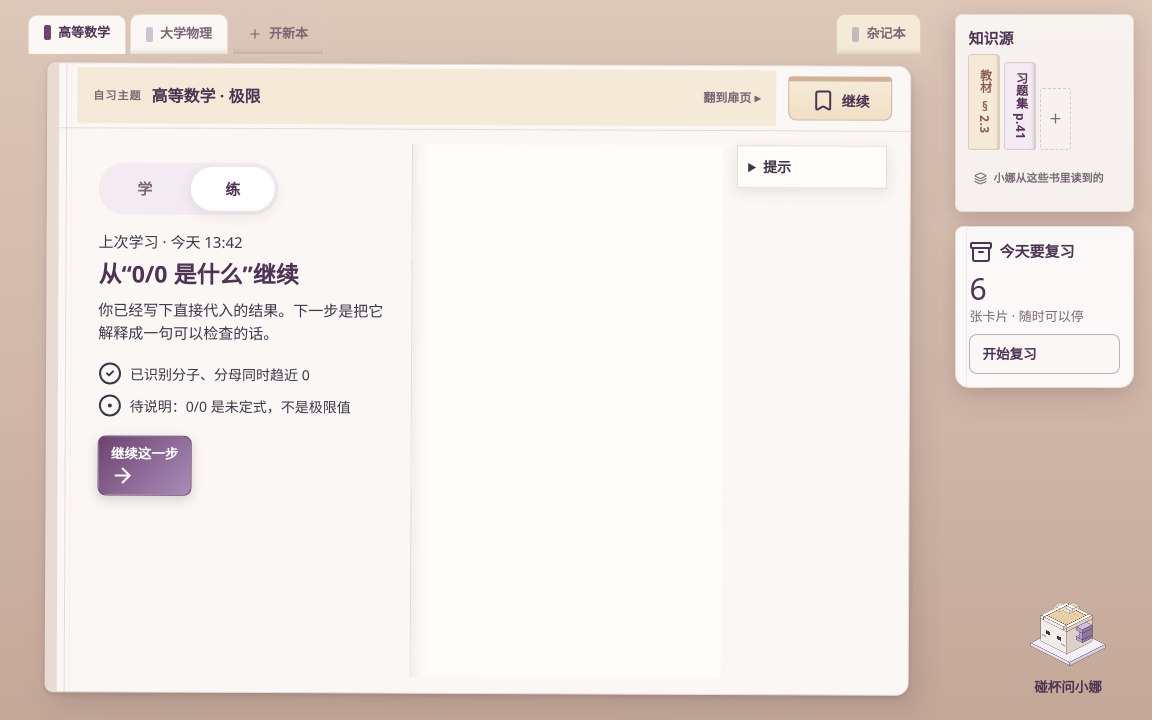
Test: DeskScene FE-01 preview › keeps density and activity independent through resume, writing, and feedback
The image size is (1152, 720).
Expected: the button with aria-label "继续：解释为什么不能直接代入" reads "继续", [788,76,892,121]
Expected: the button with aria-label "继续：解释为什么不能直接代入" does not show "解释为什么不能直接代入", [788,76,892,121]
Click the button "继续这一步": (144, 466) [97,435,191,496]
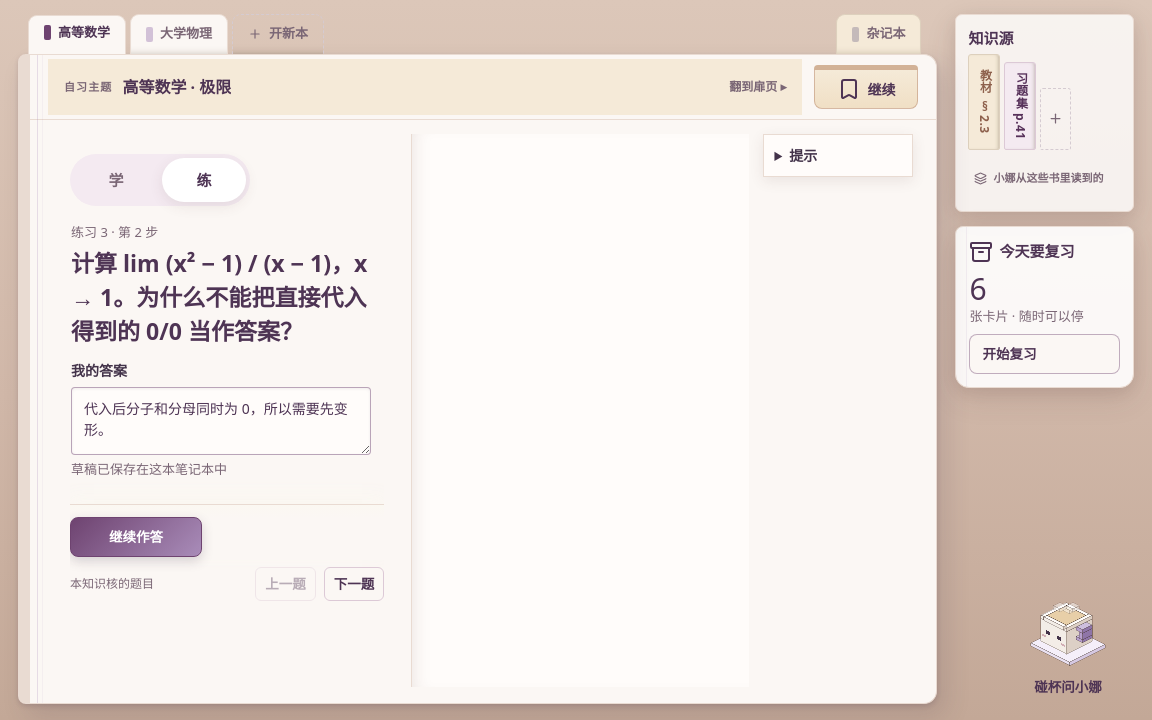
Now the heading "计算 lim (x² − 1) / (x − 1)，x → 1。为什么不能把直接代入得到的 0/0 当作答案？" is shown, box [71,246,371,348]
Click the button "继续作答": (136, 537) [70,517,202,557]
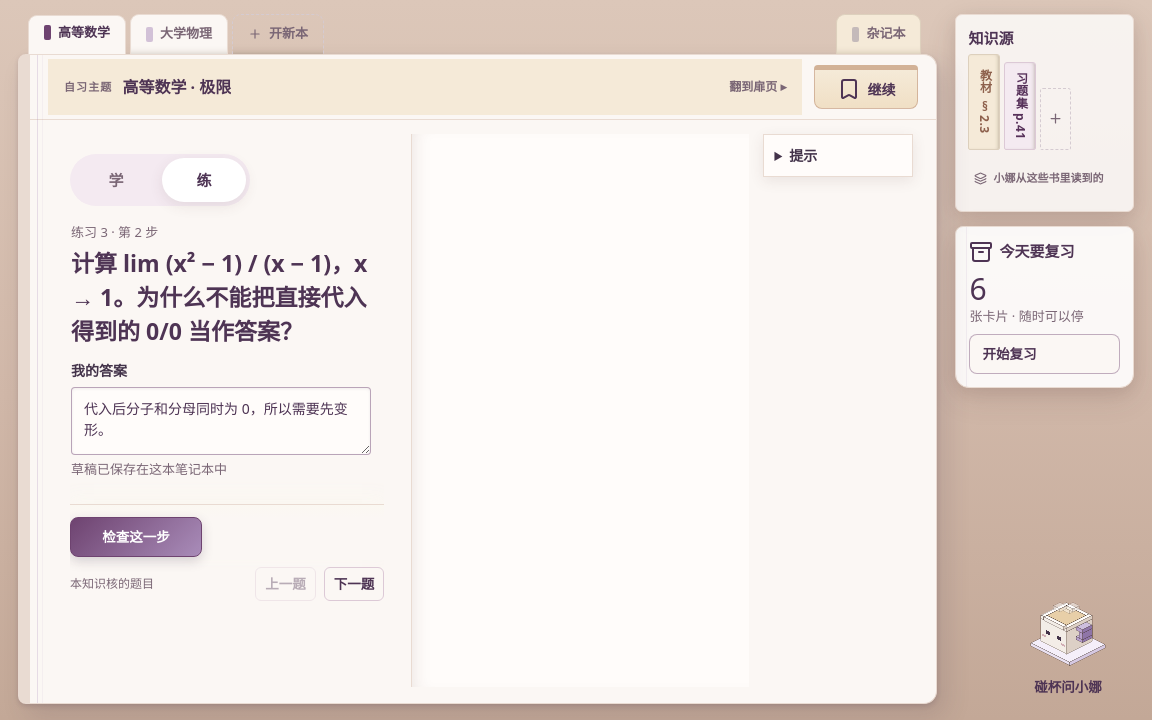
Replace the text in the text box named "我的答案" with "代入得到 0/0。": (221, 421) [71,387,371,455]
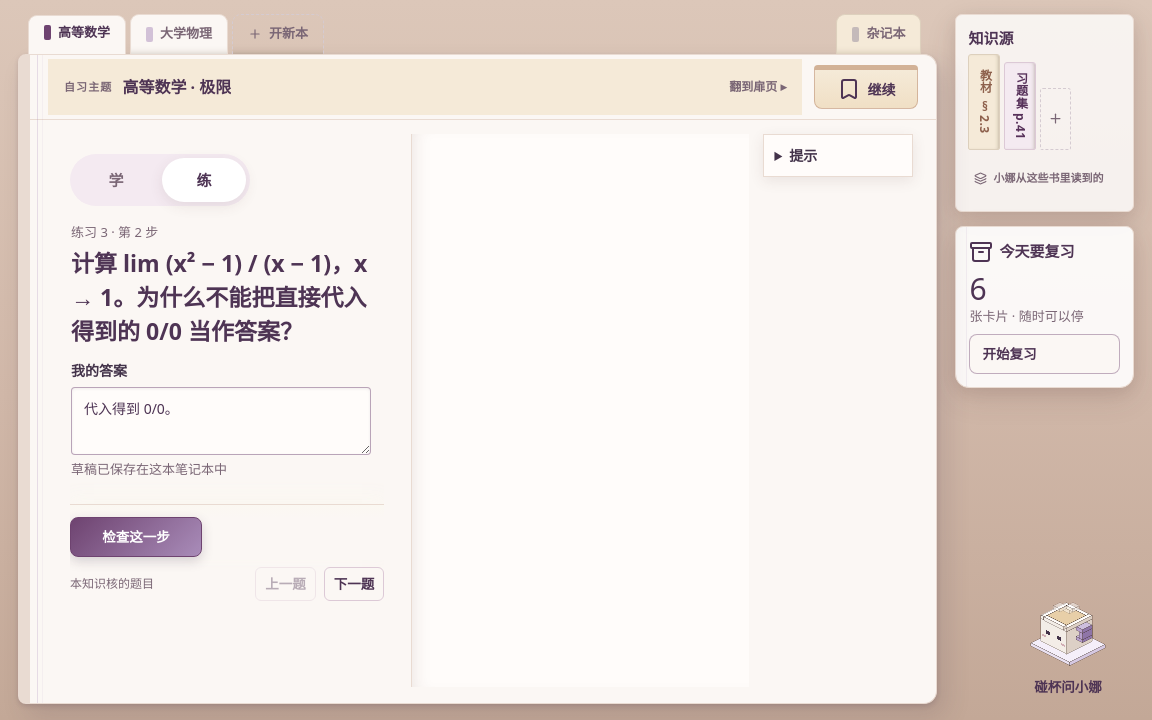
Click the button "检查这一步": (136, 537) [70,517,202,557]
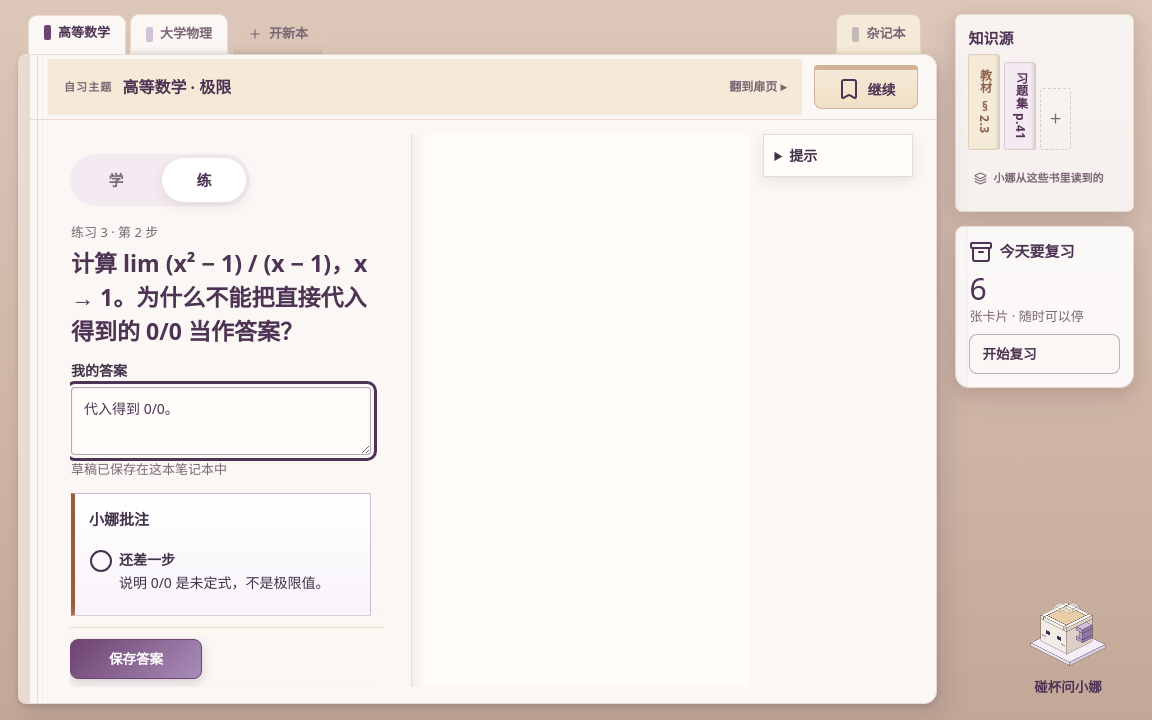
Now the element named "小娜批注：还差一步" is shown, box [71,493,371,616]
Now the button "保存答案" is shown, box [70,639,202,679]
Replace the text in the text box named "我的答案" with "0/0 是未定式，所以还要继续分析。": (221, 421) [71,387,371,455]
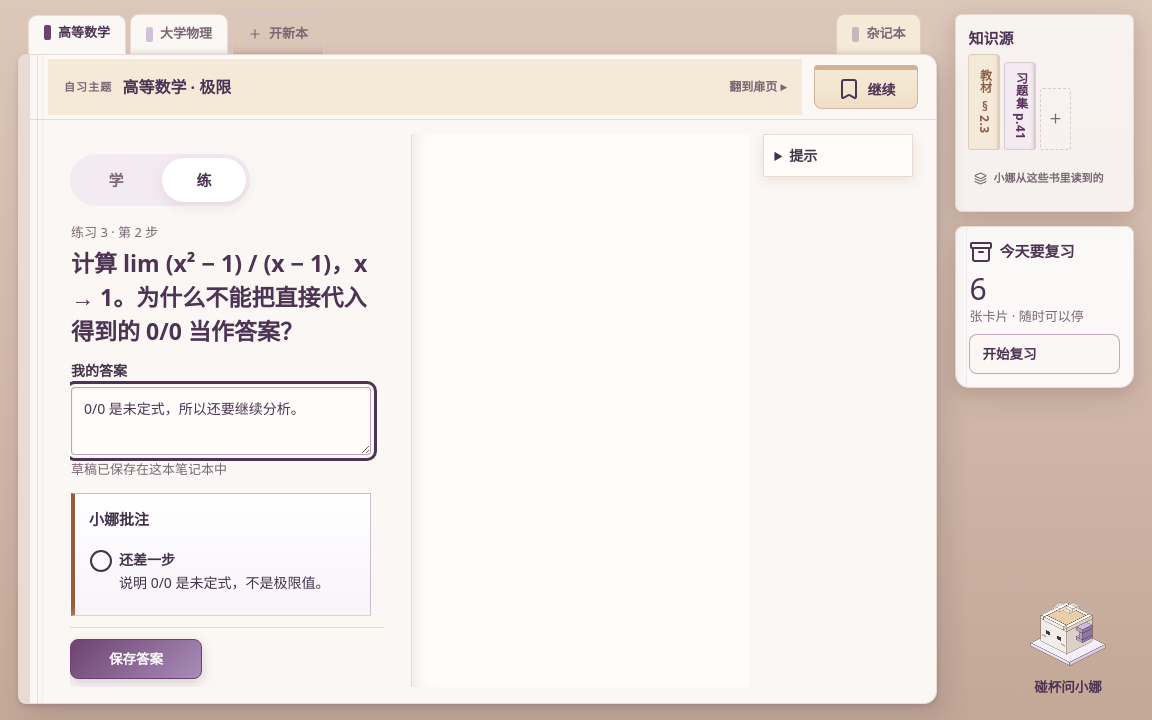
Now the element named "小娜批注：还差一步" is shown, box [71,493,371,616]
Click the button "保存答案": (136, 659) [70,639,202,679]
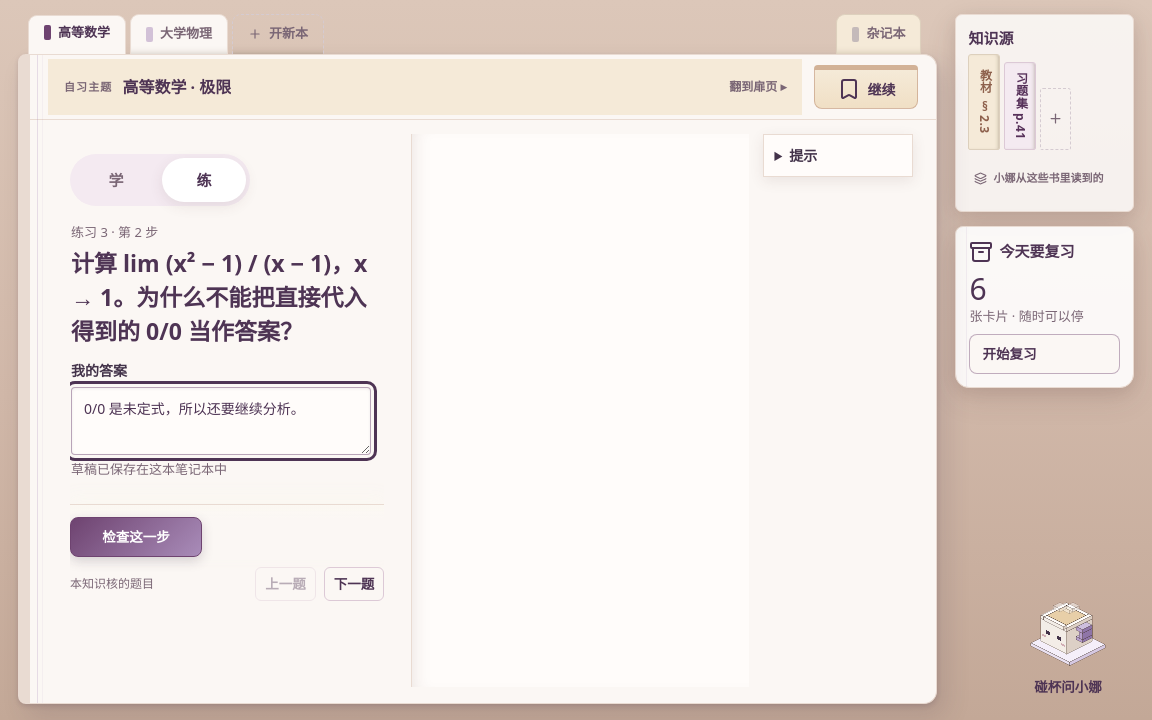
Now the button "检查这一步" is shown, box [70,517,202,557]
